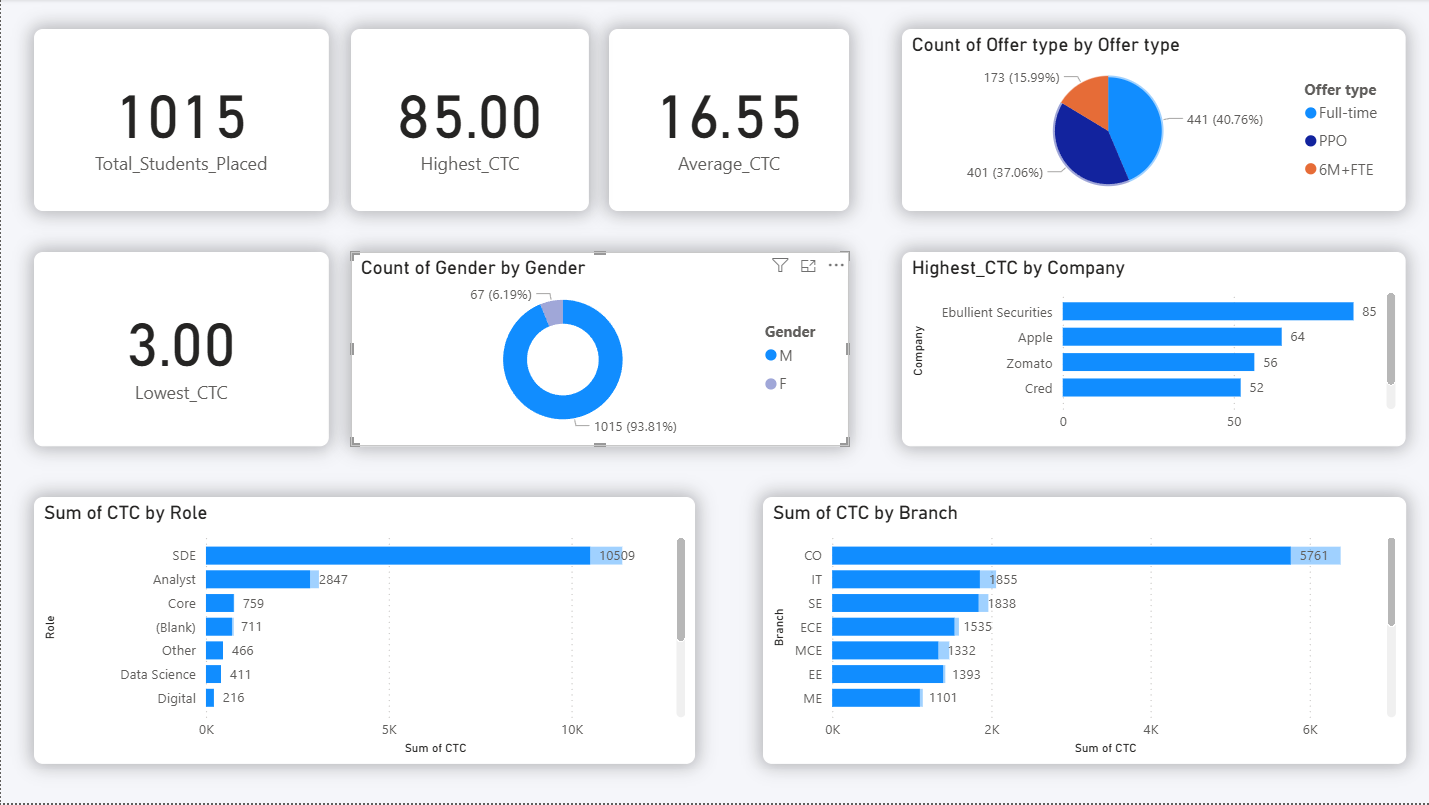

Layout of this report page (visuals, bound fields, positions):
{"tool":"powerbi","page":{"name":"Page 1","canvas":[1280,720],"ordinal":0},"visuals":[{"type":"card","fields":{"Values":["placement_data.Average_CTC"]},"box":[544.4,26.5,215,163.4],"z":0},{"type":"card","fields":{"Values":["placement_data.Highest_CTC"]},"box":[313.9,26.5,213,163.4],"z":1000},{"type":"card","fields":{"Values":["placement_data.Lowest_CTC"]},"box":[30,226.4,263.6,173.6],"z":2000},{"type":"card","fields":{"Values":["placement_data.Total_Students_Placed"]},"box":[29.9,26.5,263.6,163.4],"z":3000},{"type":"donutChart","fields":{"Category":["placement_data.Gender"],"Y":["CountNonNull(placement_data.Gender)"]},"box":[313.6,226.4,445.5,173.6],"z":4000},{"type":"clusteredBarChart","fields":{"Category":["placement_data.Role"],"Y":["Sum(placement_data.CTC)"]},"box":[29.9,445.7,592.3,239.3],"z":5000},{"type":"clusteredBarChart","fields":{"Category":["placement_data.Branch"],"Y":["Sum(placement_data.CTC)"]},"box":[682.5,445.7,575.8,239.3],"z":6000},{"type":"barChart","fields":{"Category":["placement_data.Company"],"Y":["placement_data.Highest_CTC"]},"box":[807.3,226.4,450.9,173.6],"z":7000},{"type":"pieChart","fields":{"Category":["placement_data.Offer type"],"Y":["CountNonNull(placement_data.Offer type)"]},"box":[807,26.5,451.3,163.4],"z":8000}]}

Visuals, with their boxes in screenshot pixels (x1, y1, x2, y2), scaled from the page's 1280x720 canvas onto the 1429x805 screenshot:
card - placement_data.Average_CTC: x1=608, y1=30, x2=848, y2=212
card - placement_data.Highest_CTC: x1=350, y1=30, x2=588, y2=212
card - placement_data.Lowest_CTC: x1=33, y1=253, x2=328, y2=447
card - placement_data.Total_Students_Placed: x1=33, y1=30, x2=328, y2=212
donutChart - placement_data.Gender x CountNonNull(placement_data.Gender): x1=350, y1=253, x2=847, y2=447
clusteredBarChart - placement_data.Role x Sum(placement_data.CTC): x1=33, y1=498, x2=695, y2=766
clusteredBarChart - placement_data.Branch x Sum(placement_data.CTC): x1=762, y1=498, x2=1405, y2=766
barChart - placement_data.Company x placement_data.Highest_CTC: x1=901, y1=253, x2=1405, y2=447
pieChart - placement_data.Offer type x CountNonNull(placement_data.Offer type): x1=901, y1=30, x2=1405, y2=212
